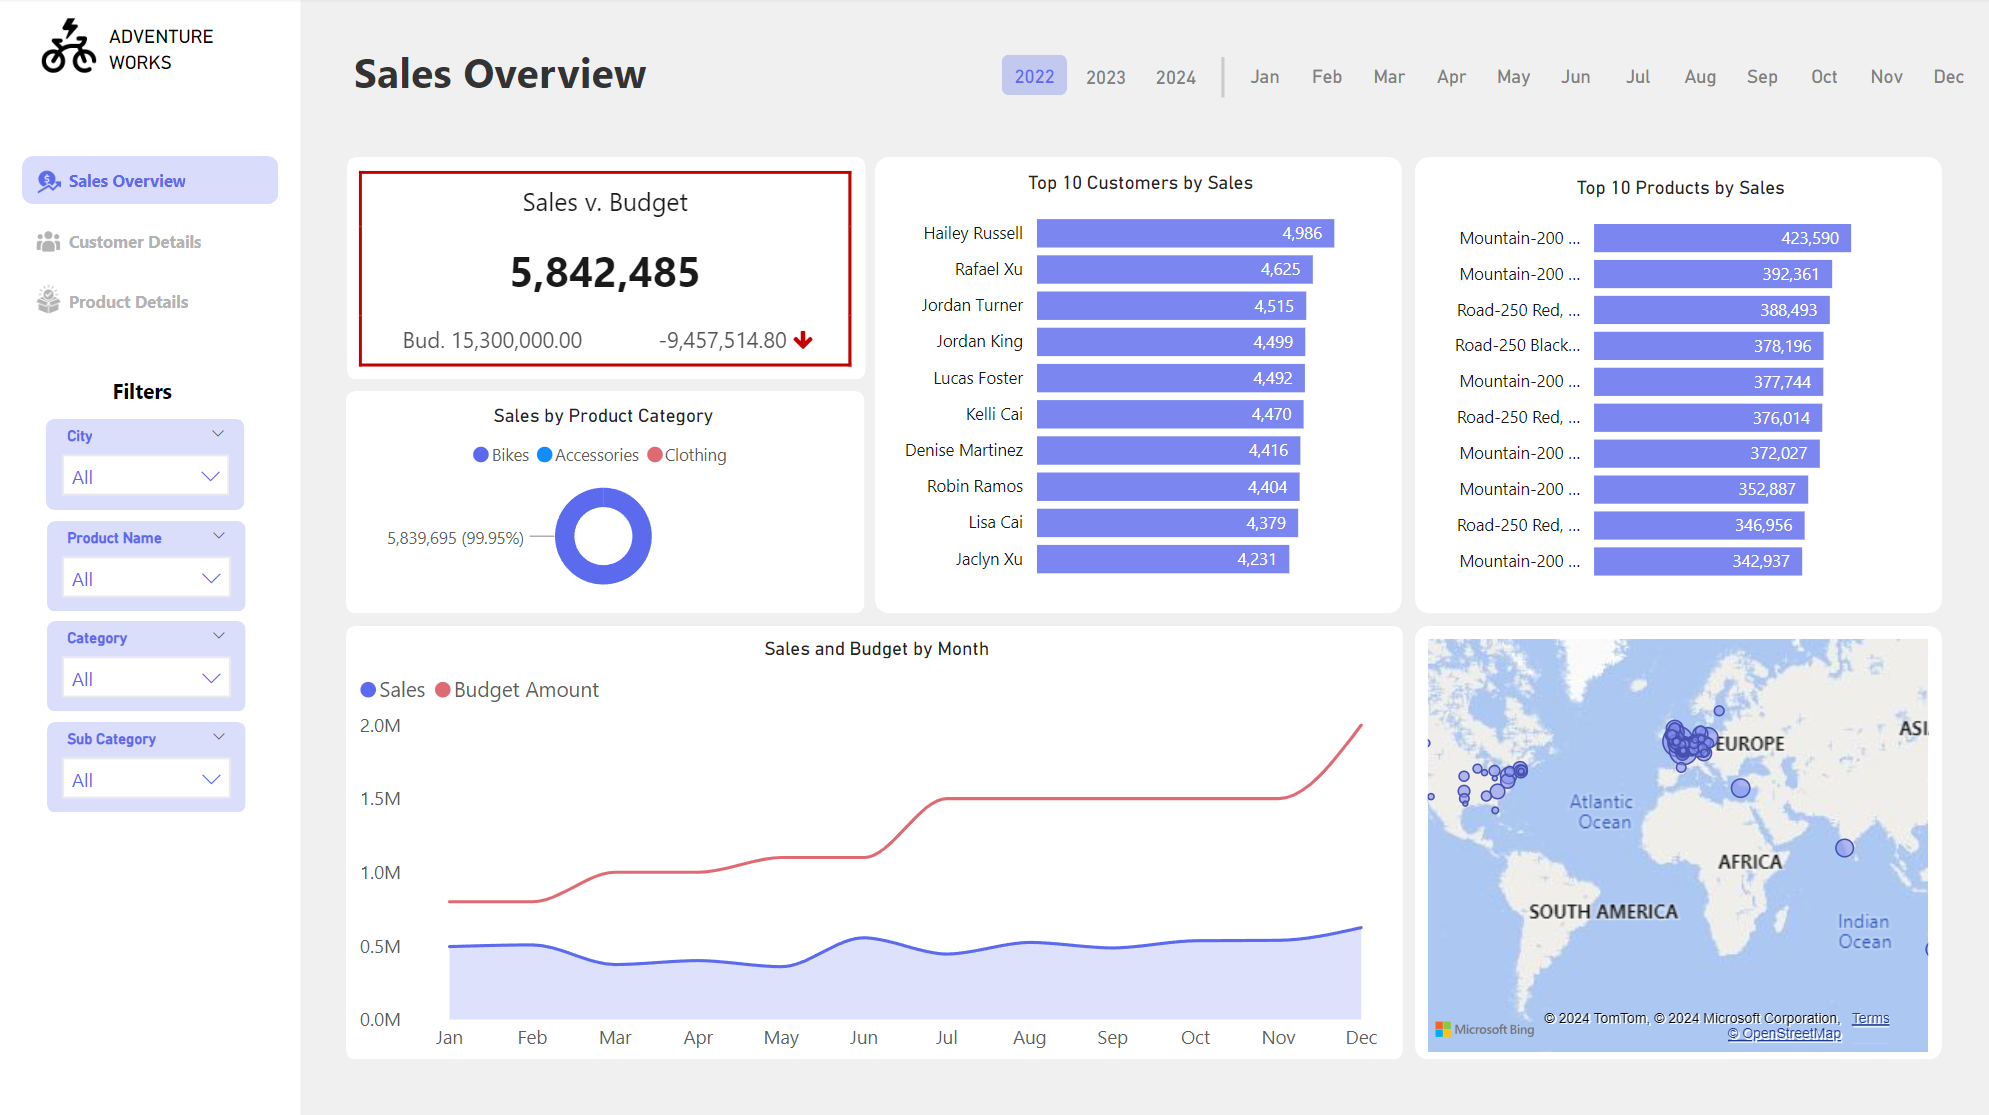

The dashboard page shown, as its layout file describes it:
{"tool":"powerbi","page":{"name":" Sales Overview","canvas":[1280,720],"ordinal":0},"visuals":[{"type":"shape","box":[223,253.1,333.6,143.1],"z":0},{"type":"shape","box":[223,404.2,680.1,278.9],"z":1000},{"type":"shape","box":[564,102.6,339.1,293.7],"z":2000},{"type":"shape","box":[911.1,102.6,339.1,293.7],"z":3000},{"type":"shape","box":[911.1,404.2,339.1,278.9],"z":4000},{"type":"shape","box":[223.6,102.6,333.6,143.1],"z":5000},{"type":"shape","box":[0,0,193.9,720],"z":6000},{"type":"shape","box":[31.1,466.1,127.8,58.4],"z":6500},{"type":"shape","box":[30.3,270.8,127.6,58.5],"z":7000},{"type":"shape","box":[31.1,401,127.8,58.4],"z":7500},{"type":"shape","box":[31.1,336.5,127.8,58.4],"z":8000},{"type":"BBED0A4D4D8D44CE93CF2DAFADEE466C","fields":{"actual":["FACT_InternetSales_CSV.Sales"],"target1":["FACT_Budget.Budget Amount"],"target2":["FACT_Budget.Sales - Budget"]},"box":[226.7,106.3,326.8,135.8],"z":9000},{"type":"lineChart","title":"Sales and Budget by Month","fields":{"Category":["DIM_Calendar_CSV.MonthShort"],"Y":["Key Measures.Sales","Key Measures.Budget Amount"]},"box":[226.7,411.6,676.4,275.8],"z":10000},{"type":"slicer","fields":{"Values":["DIM_Customers_CSV.CustomerCity"]},"box":[31.1,270.7,127.2,58.4],"z":11000},{"type":"donutChart","title":"Sales by Product Category","fields":{"Category":["DIM_Products_CSV.ProductCategory"],"Y":["Key Measures.Sales"]},"box":[224.8,261.7,328.7,128.4],"z":12000},{"type":"slicer","fields":{"Values":["DIM_Products_CSV.SubCategory"]},"box":[30.9,466,127.6,50],"z":13000},{"type":"barChart","title":"Top 10 Customers by Sales","fields":{"Y":["Key Measures.Sales"],"Category":["DIM_Customers_CSV.FullName"]},"box":[567,103.2,332.4,286.9],"z":14000},{"type":"slicer","fields":{"Values":["DIM_Products_CSV.ProductCategory"]},"box":[30.9,401.2,127.6,50],"z":15000},{"type":"barChart","title":"Top 10 Products by Sales","fields":{"Y":["Key Measures.Sales"],"Category":["DIM_Products_CSV.ProductName"]},"box":[914.1,106.3,332.4,285.1],"z":16000},{"type":"slicer","fields":{"Values":["DIM_Products_CSV.ProductName"]},"box":[30.9,336.3,127.6,50],"z":17000},{"type":"textbox","box":[223.2,24,349.6,60],"z":20000},{"type":"pageNavigator","box":[14.7,101.6,165.3,111.8],"z":21000},{"type":"map","fields":{"Category":["DIM_Customers_CSV.CustomerCity"],"Size":["Sum(FACT_InternetSales_CSV.SalesAmount)"]},"box":[914.1,407.3,332.4,275.8],"z":22000},{"type":"advancedSlicerVisual","fields":{"Values":["DIM_Calendar_CSV.MonthShort"]},"box":[790.4,31,489.6,36.8],"z":23000},{"type":"advancedSlicerVisual","fields":{"Values":["DIM_Calendar_CSV.Year"]},"box":[640,31.8,142.4,36.8],"z":24000},{"type":"image","box":[19.7,105.3,24.6,25.8],"z":25000},{"type":"image","box":[19,144,24.6,25.8],"z":26000},{"type":"image","box":[17.2,178.4,29.5,31.3],"z":27000},{"type":"image","box":[22.4,7.2,44.8,47.2],"z":27001},{"type":"textbox","box":[65.6,9.6,107.2,51.2],"z":27002},{"type":"shape","box":[763.2,38.2,48.8,26.4],"z":27003},{"type":"textbox","box":[24.9,238.8,133.9,38.7],"z":27004}]}

Visuals, with their boxes on the page's 1280x720 design canvas (x1, y1, x2, y2). These are canvas units, not pixel positions in the 1989x1115 screenshot, which may show the page scaled, cropped or inside an application window:
shape: x1=223, y1=253, x2=557, y2=396
shape: x1=223, y1=404, x2=903, y2=683
shape: x1=564, y1=103, x2=903, y2=396
shape: x1=911, y1=103, x2=1250, y2=396
shape: x1=911, y1=404, x2=1250, y2=683
shape: x1=224, y1=103, x2=557, y2=246
shape: x1=0, y1=0, x2=194, y2=720
shape: x1=31, y1=466, x2=159, y2=524
shape: x1=30, y1=271, x2=158, y2=329
shape: x1=31, y1=401, x2=159, y2=459
shape: x1=31, y1=336, x2=159, y2=395
BBED0A4D4D8D44CE93CF2DAFADEE466C - FACT_InternetSales_CSV.Sales x FACT_Budget.Budget Amount: x1=227, y1=106, x2=554, y2=242
"Sales and Budget by Month" lineChart: x1=227, y1=412, x2=903, y2=687
slicer - DIM_Customers_CSV.CustomerCity: x1=31, y1=271, x2=158, y2=329
"Sales by Product Category" donutChart: x1=225, y1=262, x2=554, y2=390
slicer - DIM_Products_CSV.SubCategory: x1=31, y1=466, x2=158, y2=516
"Top 10 Customers by Sales" barChart: x1=567, y1=103, x2=899, y2=390
slicer - DIM_Products_CSV.ProductCategory: x1=31, y1=401, x2=158, y2=451
"Top 10 Products by Sales" barChart: x1=914, y1=106, x2=1246, y2=391
slicer - DIM_Products_CSV.ProductName: x1=31, y1=336, x2=158, y2=386
textbox: x1=223, y1=24, x2=573, y2=84
pageNavigator: x1=15, y1=102, x2=180, y2=213
map - DIM_Customers_CSV.CustomerCity x Sum(FACT_InternetSales_CSV.SalesAmount): x1=914, y1=407, x2=1246, y2=683
advancedSlicerVisual - DIM_Calendar_CSV.MonthShort: x1=790, y1=31, x2=1280, y2=68
advancedSlicerVisual - DIM_Calendar_CSV.Year: x1=640, y1=32, x2=782, y2=69
image: x1=20, y1=105, x2=44, y2=131
image: x1=19, y1=144, x2=44, y2=170
image: x1=17, y1=178, x2=47, y2=210
image: x1=22, y1=7, x2=67, y2=54
textbox: x1=66, y1=10, x2=173, y2=61
shape: x1=763, y1=38, x2=812, y2=65
textbox: x1=25, y1=239, x2=159, y2=278
